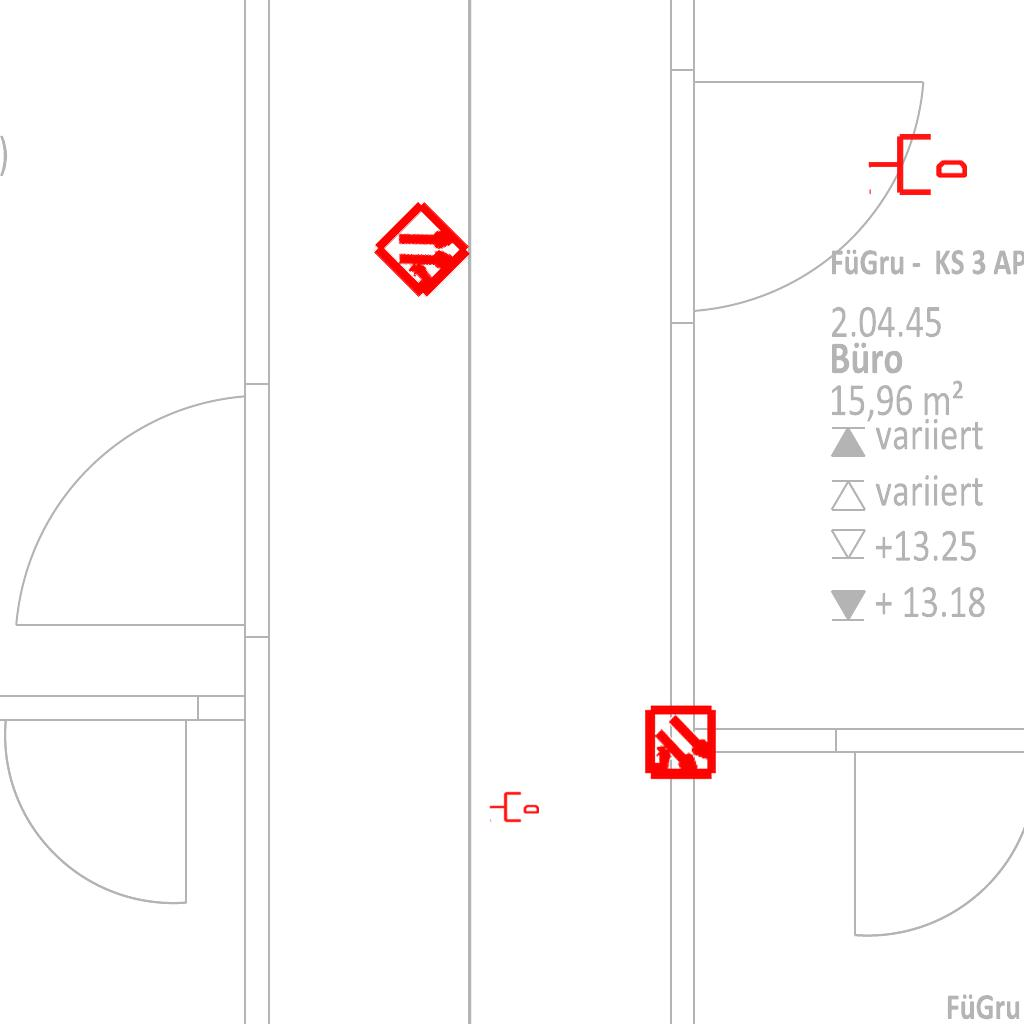Datenanschluss_einfach: (867, 130, 967, 199), (489, 790, 539, 824)
OT_Multisensormelder_(Kombination_RMO_WMD): (343, 171, 504, 332), (624, 688, 737, 801)
